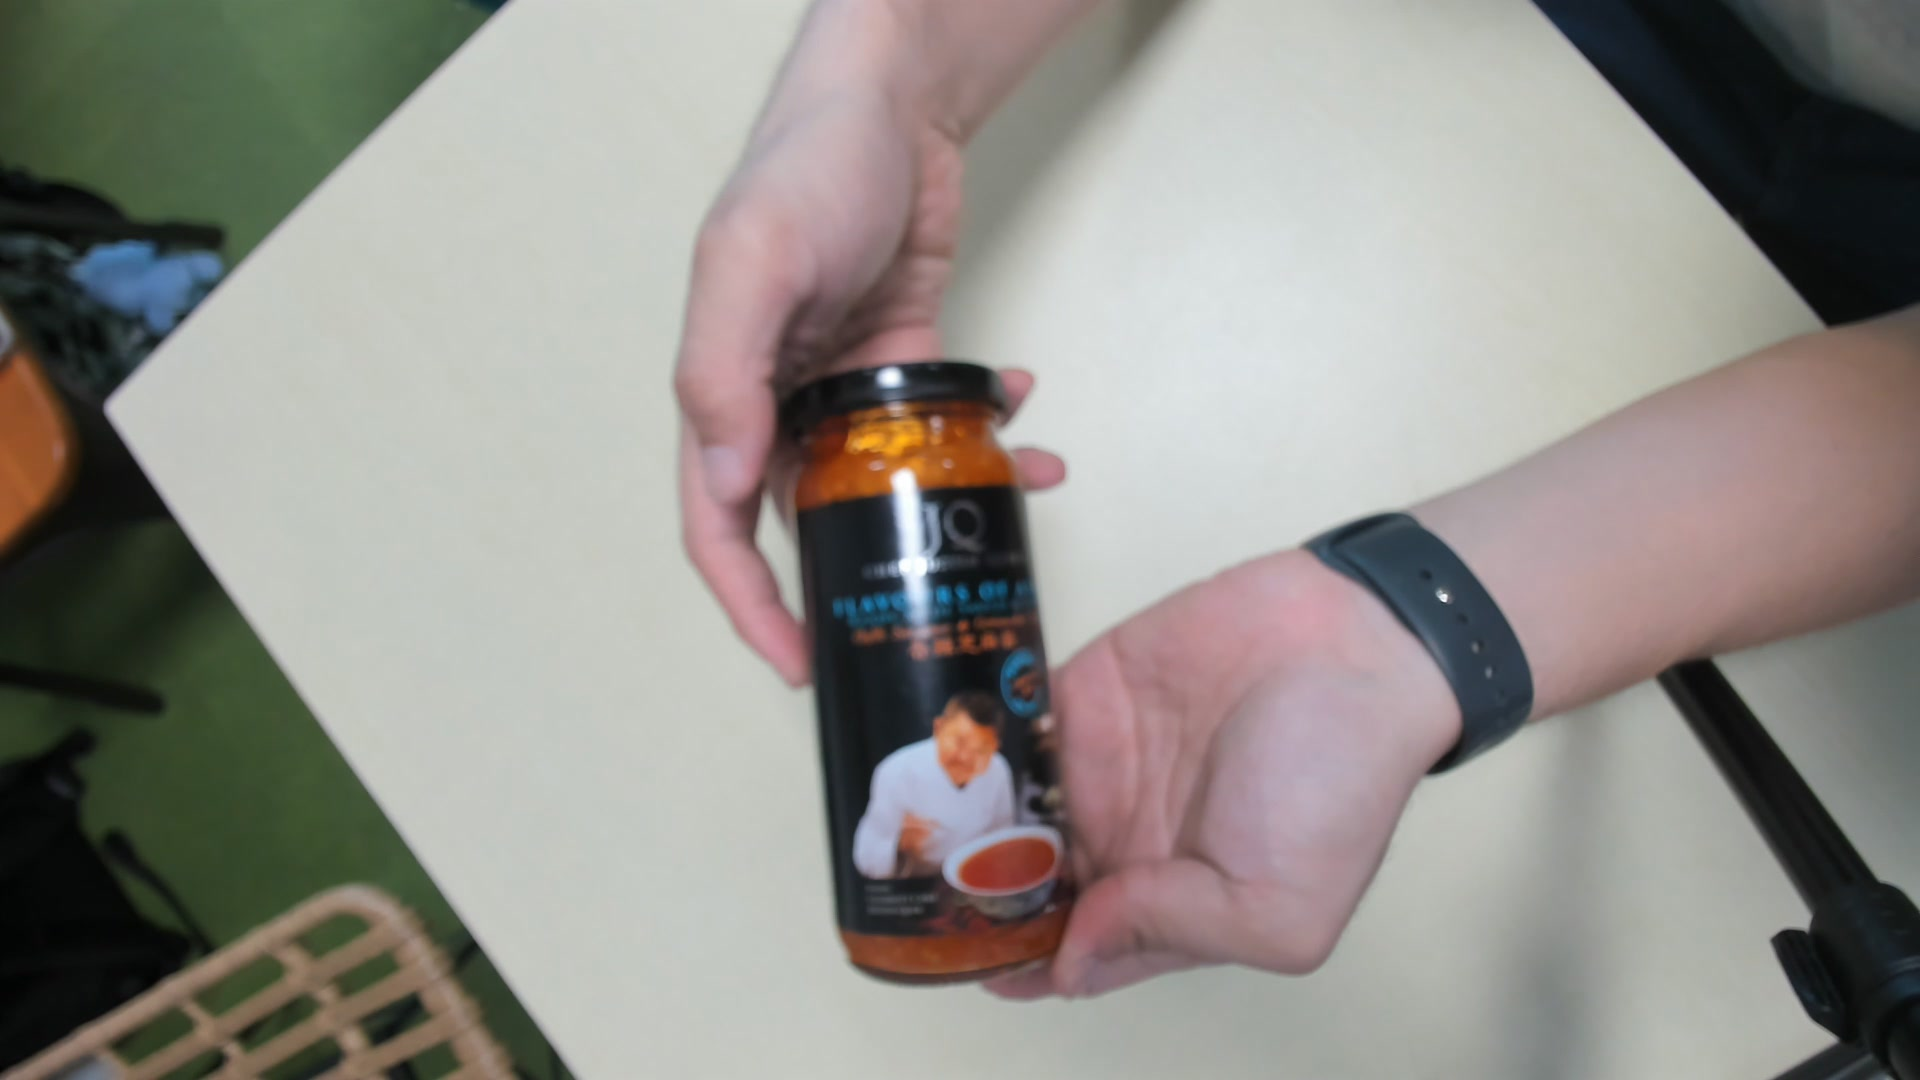OtherSauceDressing_300-399g_NonHalal_NonHealthy: (773, 364, 1081, 992)
